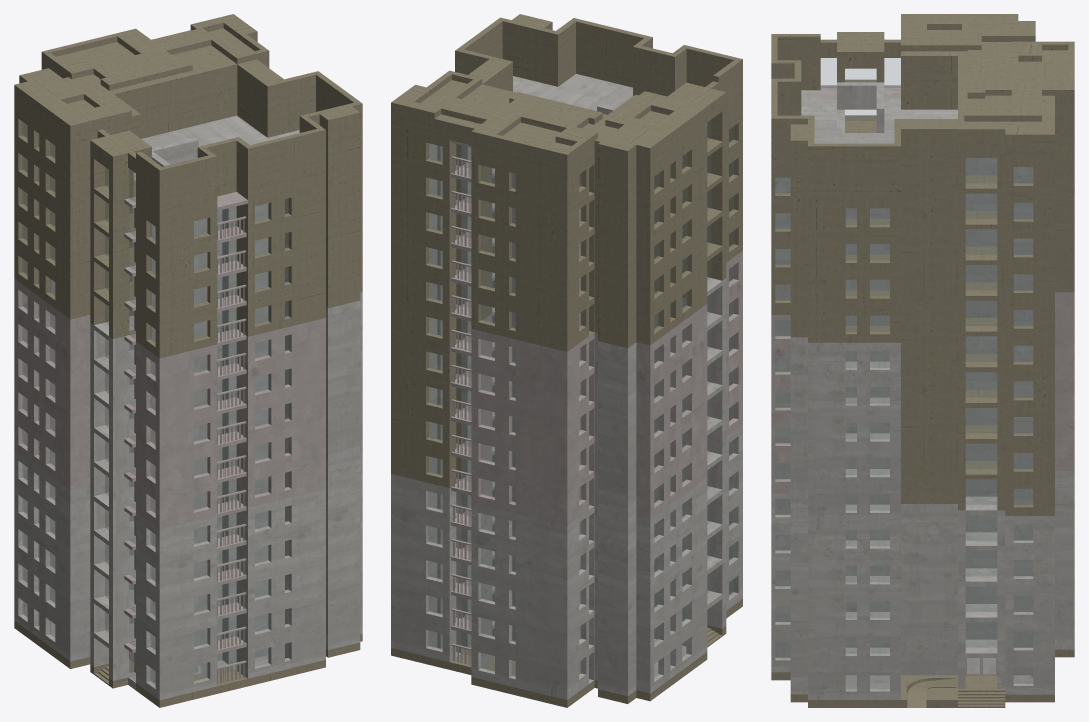
Rendered from korean_apartment.00e9600ab9ef.glb.
3 views of the same model, side by side, from view 1: azimuth 30°, elevation 25°; view 2: azimuth 150°, elevation 25°; view 3: azimuth 270°, elevation 25° (orthographic). The views are drawn at different scales.
Parts seen in each view (by area): view 1: Korean_Apartment_0; view 2: Korean_Apartment_0; view 3: Korean_Apartment_0.
Boxes of the visible parts, left/top/right/bottom form: Korean_Apartment_0: left=14, top=14, right=362, bottom=707; Korean_Apartment_0: left=391, top=14, right=742, bottom=707; Korean_Apartment_0: left=771, top=14, right=1074, bottom=707.
Bounding box in the file's own units: 4.55 × 9.53 × 4.62.
Materials: 4 (3 with a texture image).
